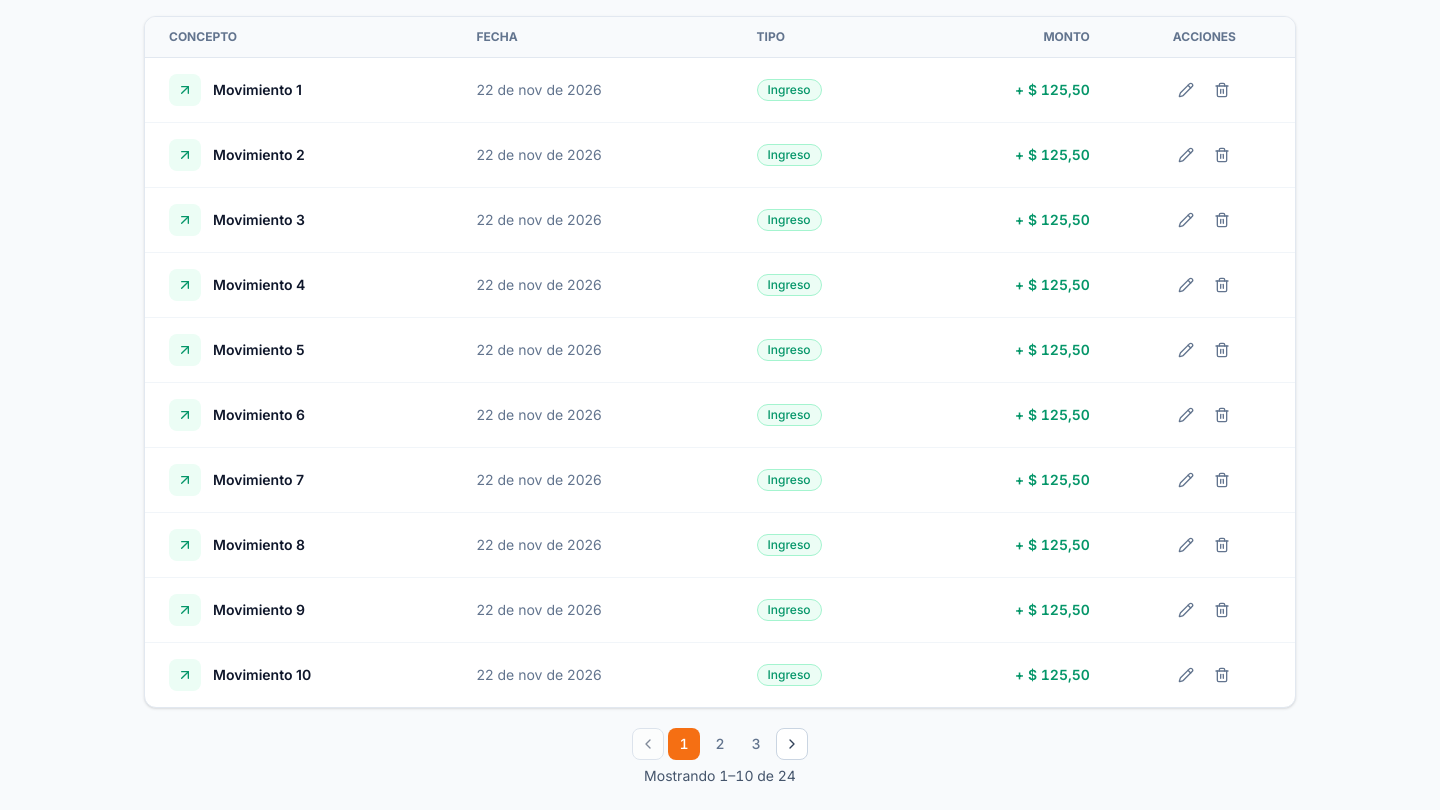
Test: pagina los resultados y vuelve a la primera página al aplicar o limpiar filtros
The width and height of the screenshot is (1440, 810).
(page scrolled)
Expected: the text "Mostrando 1–10 de 24" is shown, 644,766 -> 796,786
Expected: the button named "Página anterior" is disabled, 632,728 -> 664,760
Step 1. Click the button named "Página 3" → coordinates (756, 744), box 740,728 -> 772,760
(page scrolled)
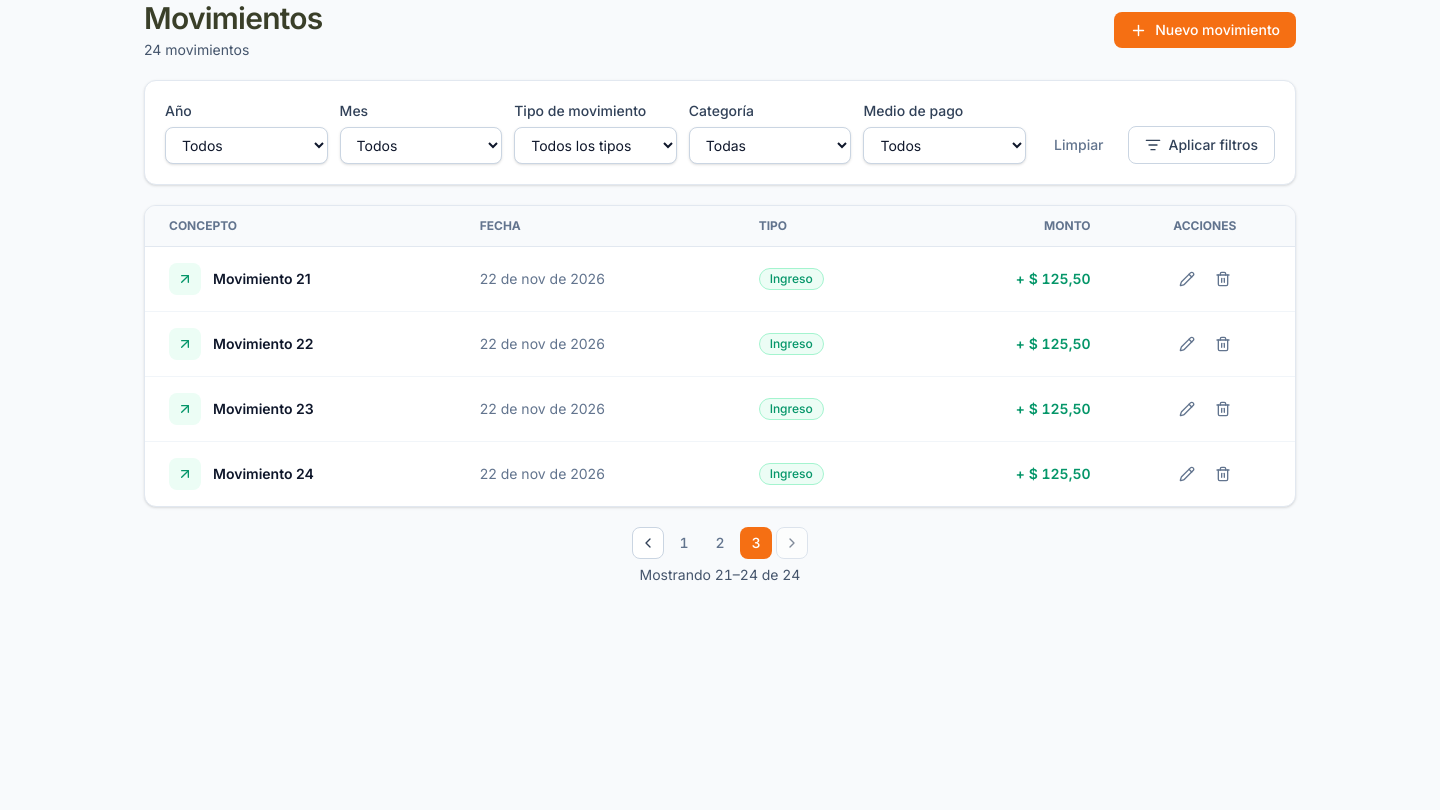
Expected: the text "Mostrando 21–24 de 24" is shown, 640,565 -> 800,585
Expected: the button named "Página siguiente" is disabled, 776,527 -> 808,559
Expected: the text "Movimiento 1" is gone
Step 2. Select "Ingreso" in the dropdown labelled "Tipo de movimiento" → coordinates (596, 146), box 514,127 -> 677,164
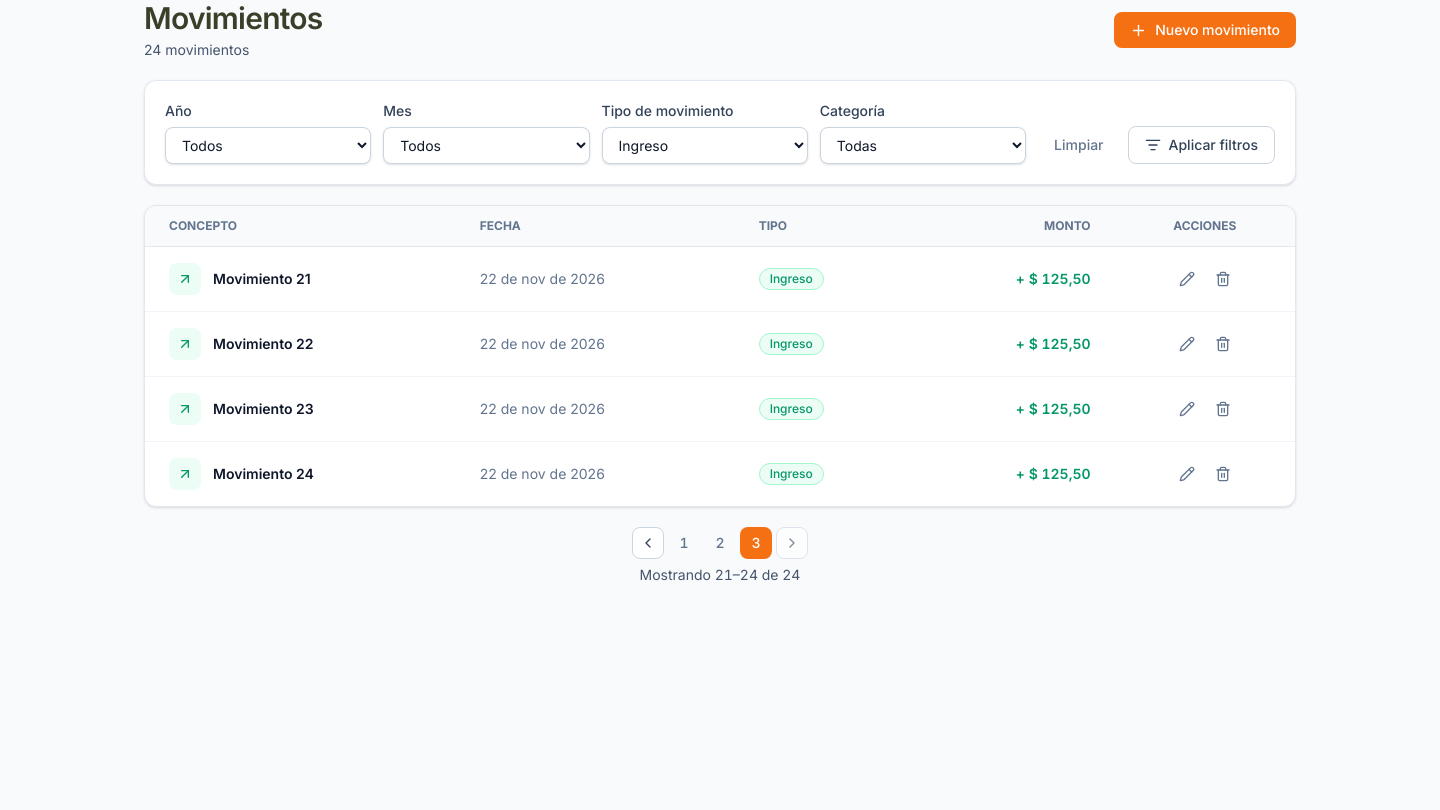
Step 3. Click the button "Aplicar filtros" → coordinates (1201, 145), box 1128,126 -> 1275,164
(page scrolled)
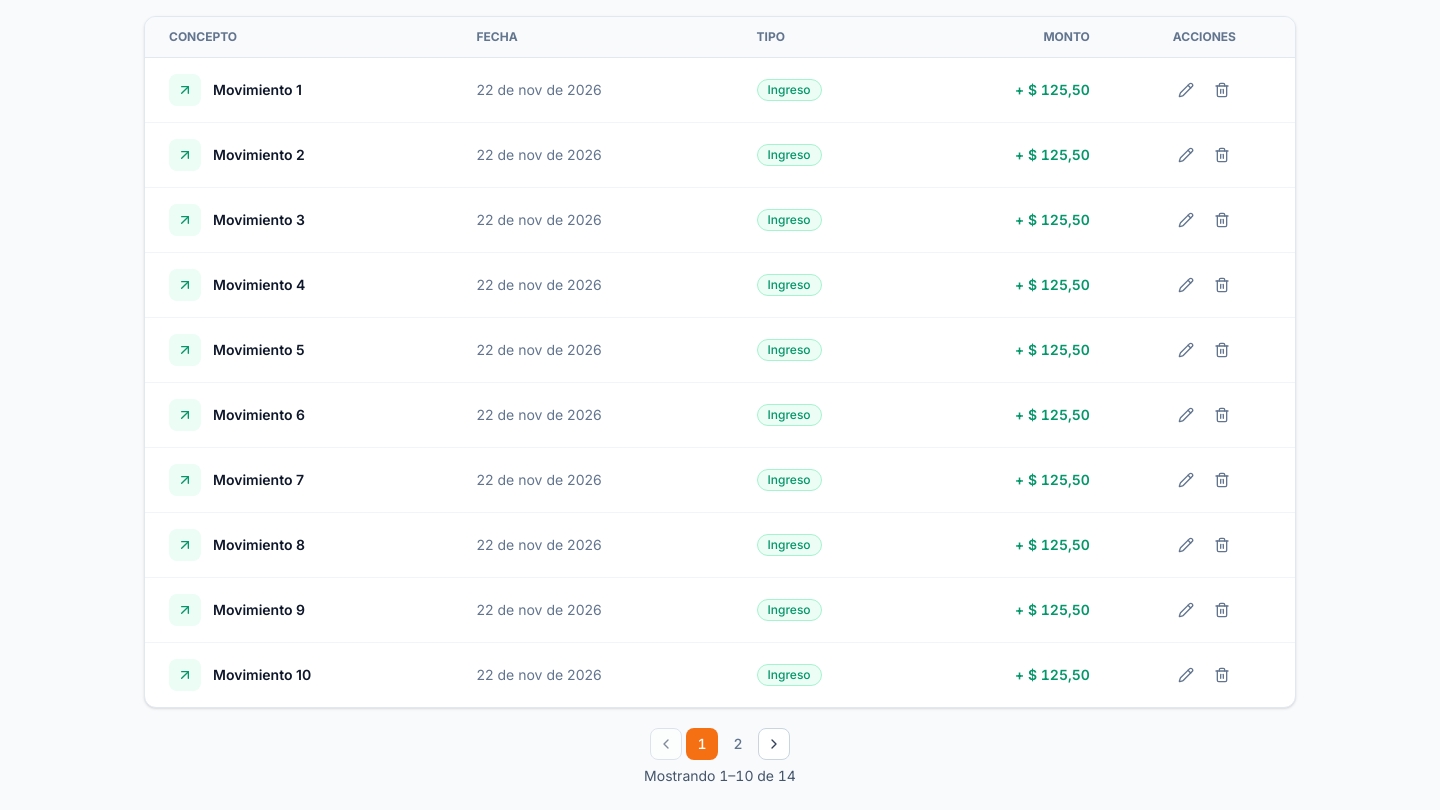
Expected: the text "Mostrando 1–10 de 14" is shown, 644,766 -> 796,786
Step 4. Click the button named "Página siguiente" → coordinates (774, 744), box 758,728 -> 790,760
(page scrolled)
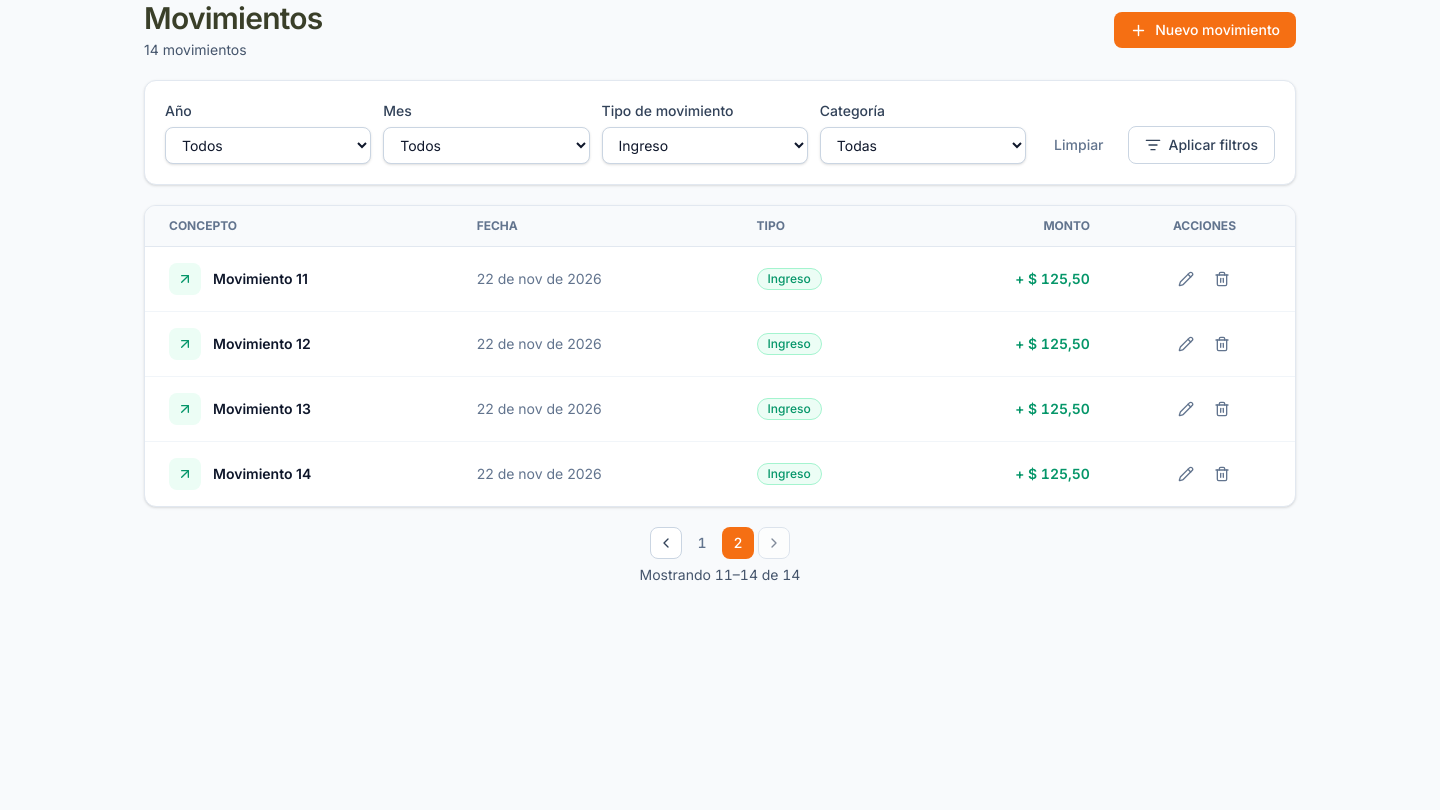
Expected: the text "Mostrando 11–14 de 14" is shown, 640,565 -> 800,585
Step 5. Click the button "Limpiar" → coordinates (1079, 145), box 1038,126 -> 1120,164
(page scrolled)
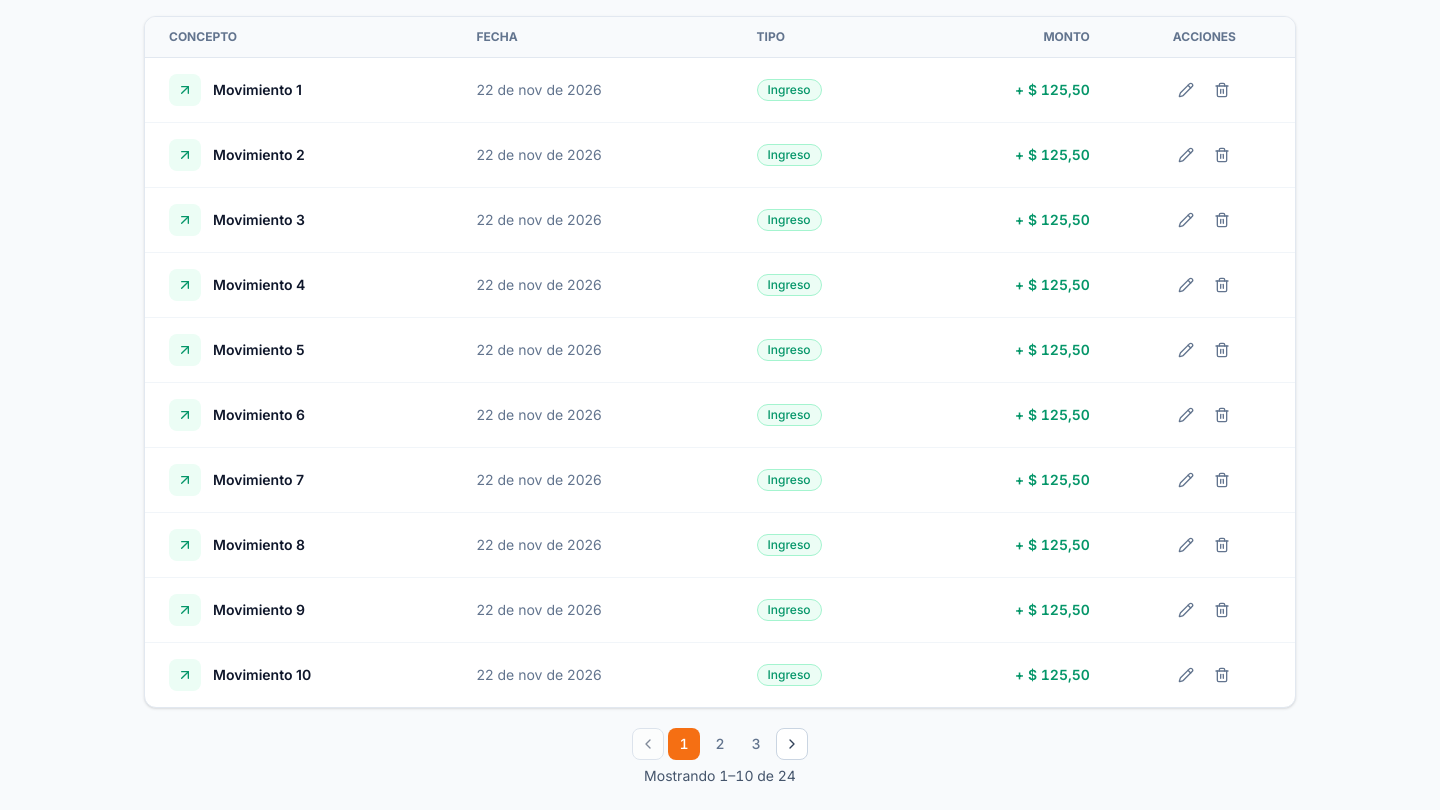
Expected: the text "Mostrando 1–10 de 24" is shown, 644,766 -> 796,786
